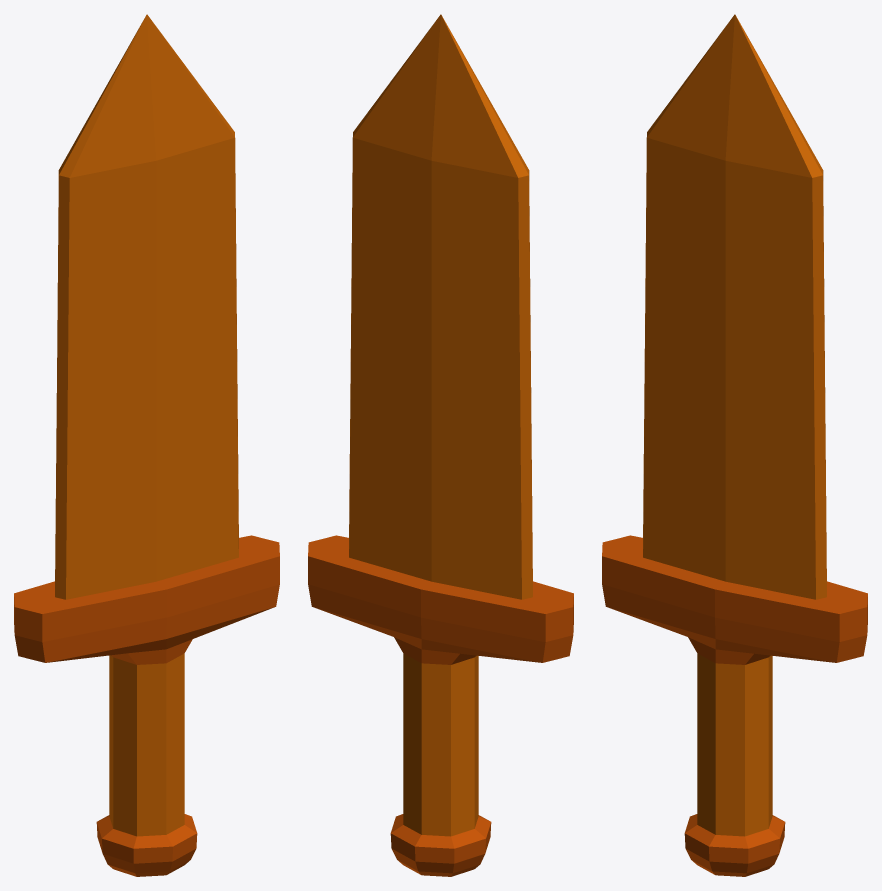
Rendered from attack.glb.
The picture shows the model from 3 angles, left to right: view 1: azimuth 30°, elevation 25°; view 2: azimuth 150°, elevation 25°; view 3: azimuth 330°, elevation 25°; orthographic projection.
Parts seen in each view (by area): view 1: Attack; view 2: Attack; view 3: Attack.
Boxes of the visible parts, left/top/right/bottom form: Attack: left=14, top=14, right=279, bottom=876; Attack: left=308, top=14, right=573, bottom=876; Attack: left=602, top=14, right=867, bottom=876.
Size of the model in its own units: 0.0838 by 0.2562 by 0.0285.
1 material, 1 textured.
